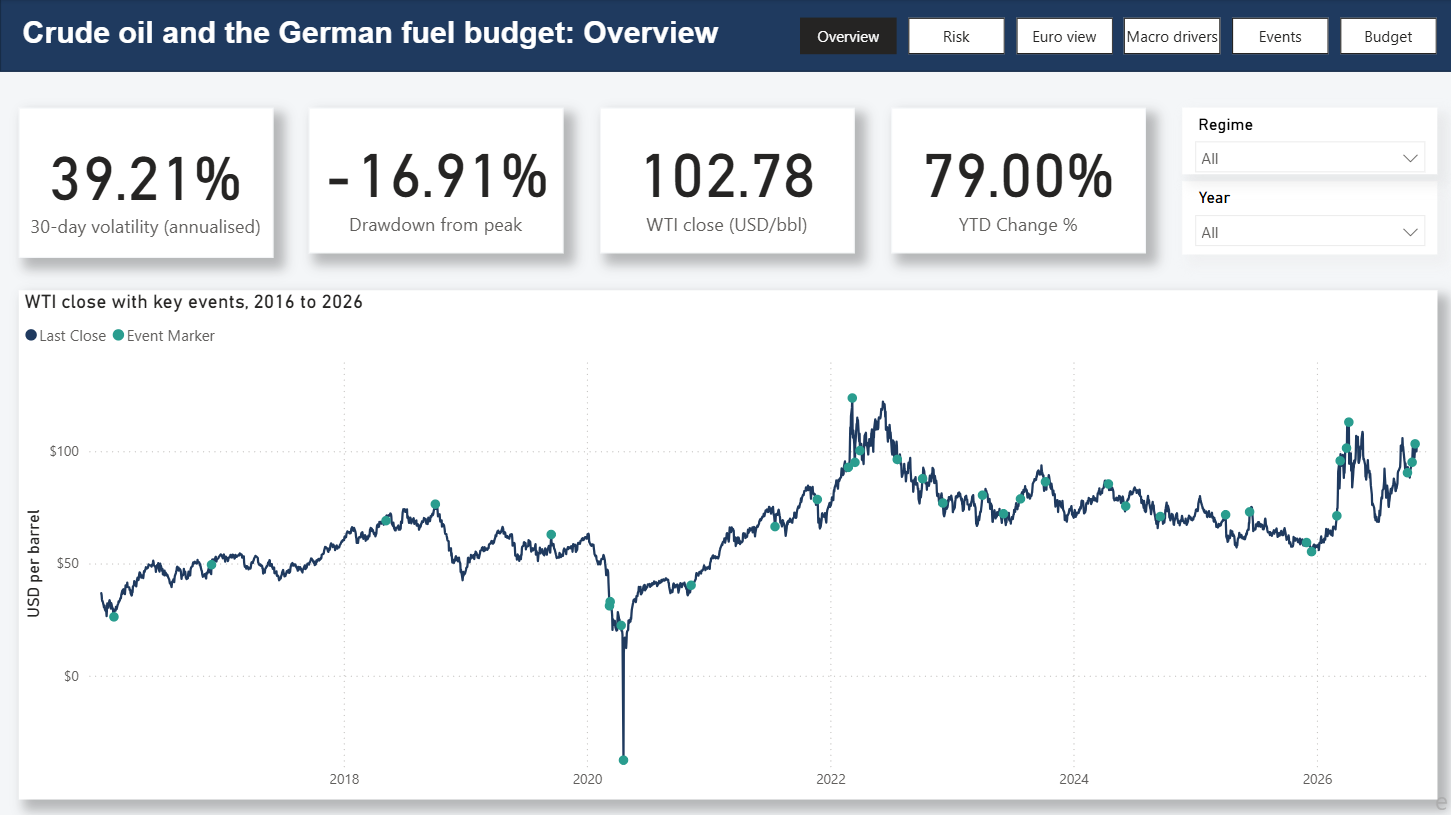

The dashboard page shown, as its layout file describes it:
{"tool":"powerbi","page":{"name":"Overview","canvas":[1280,720],"ordinal":0},"visuals":[{"type":"shape","box":[0,0,1280,64],"z":0},{"type":"slicer","fields":{"Values":["dim_date.year"]},"box":[1040,160,224,64],"z":1000},{"type":"slicer","fields":{"Values":["dim_date.regime"]},"box":[1040,96,224,58],"z":2000},{"type":"card","fields":{"Values":["fact_daily.Last Close"]},"box":[528,96,224,128],"z":3000},{"type":"card","fields":{"Values":["fact_daily.YTD Change %"]},"box":[784,96,224,128],"z":4000},{"type":"lineChart","title":"WTI close with key events, 2016 to 2026","fields":{"Category":["fact_daily.date"],"Y":["fact_daily.Last Close","fact_daily.Event Marker"]},"box":[16,256,1248,448],"z":5000},{"type":"card","fields":{"Values":["fact_daily.Vol 30D"]},"box":[16,96,224,132],"z":6000},{"type":"card","fields":{"Values":["fact_daily.Drawdown"]},"box":[272,96,224,128],"z":7000},{"type":"textbox","box":[0,10,640,48],"z":8000},{"type":"pageNavigator","box":[704,16,560,32],"z":9000}]}

Visuals, with their boxes in screenshot pixels (x1, y1, x2, y2), scaled from the page's 1280x720 canvas onto the 1451x815 screenshot:
shape: {"left": 0, "top": 0, "right": 1450, "bottom": 72}
slicer - dim_date.year: {"left": 1179, "top": 181, "right": 1433, "bottom": 254}
slicer - dim_date.regime: {"left": 1179, "top": 109, "right": 1433, "bottom": 174}
card - fact_daily.Last Close: {"left": 599, "top": 109, "right": 852, "bottom": 254}
card - fact_daily.YTD Change %: {"left": 889, "top": 109, "right": 1143, "bottom": 254}
"WTI close with key events, 2016 to 2026" lineChart: {"left": 18, "top": 290, "right": 1433, "bottom": 797}
card - fact_daily.Vol 30D: {"left": 18, "top": 109, "right": 272, "bottom": 258}
card - fact_daily.Drawdown: {"left": 308, "top": 109, "right": 562, "bottom": 254}
textbox: {"left": 0, "top": 11, "right": 726, "bottom": 66}
pageNavigator: {"left": 798, "top": 18, "right": 1433, "bottom": 54}
